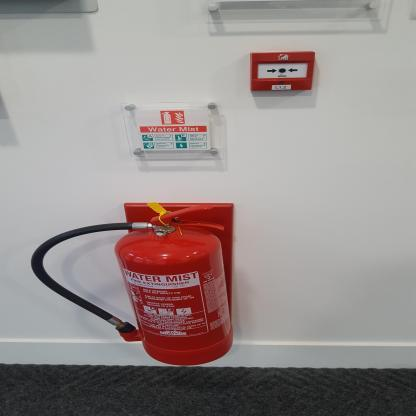Fire Extinguisher: (26, 178, 294, 371)
